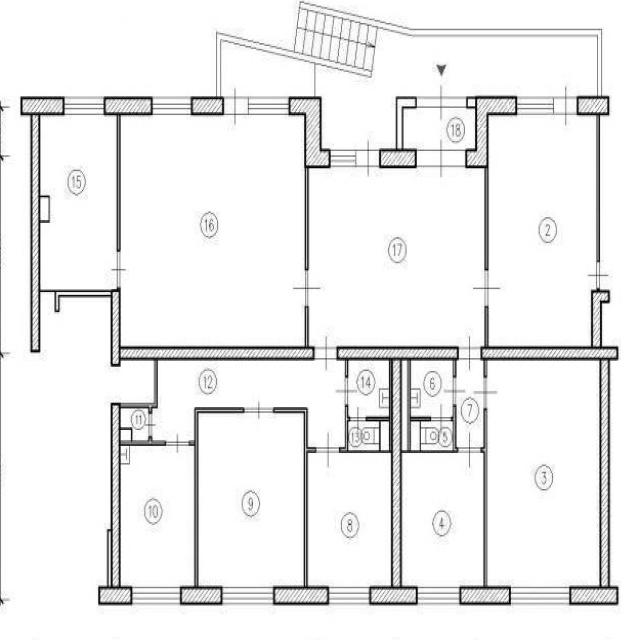Bathrooms: (349, 362, 390, 416), (412, 360, 452, 415), (411, 422, 452, 449), (348, 422, 389, 449)
Corridors: (222, 29, 598, 147), (153, 361, 345, 445), (404, 109, 475, 149), (458, 362, 483, 448), (121, 411, 148, 439)
Doors: (417, 137, 465, 178), (417, 84, 467, 120), (223, 86, 249, 129), (472, 271, 502, 307), (291, 271, 321, 307), (554, 85, 576, 128), (314, 335, 337, 375), (356, 139, 379, 178), (458, 333, 481, 372), (317, 430, 340, 469), (471, 377, 499, 409), (458, 431, 480, 469), (108, 253, 129, 290), (244, 397, 274, 422), (586, 261, 610, 289), (334, 377, 358, 405), (432, 403, 451, 435), (445, 377, 466, 405), (166, 431, 190, 454), (350, 406, 365, 436), (141, 414, 160, 435)
LBwalls: (481, 289, 619, 584), (110, 289, 314, 367), (465, 96, 517, 168), (289, 97, 330, 169), (391, 360, 401, 587), (31, 117, 40, 352), (110, 401, 121, 586), (338, 346, 459, 359), (274, 587, 328, 606), (460, 587, 511, 606), (103, 96, 153, 115), (570, 586, 619, 605), (369, 587, 417, 606), (20, 96, 64, 115), (181, 587, 223, 606), (379, 148, 417, 167), (98, 586, 132, 605), (576, 96, 610, 115), (191, 97, 225, 116)
Offices: (121, 117, 303, 345), (310, 168, 484, 345), (488, 362, 600, 585), (490, 116, 595, 345), (200, 416, 303, 584), (41, 117, 115, 287), (402, 454, 484, 586), (309, 454, 390, 587), (122, 448, 194, 586)
Stairs: (293, 8, 380, 71)
Walls: (300, 1, 604, 95), (216, 31, 372, 95), (189, 407, 243, 586), (274, 407, 317, 586), (402, 360, 459, 454), (339, 406, 390, 454), (121, 361, 158, 415), (41, 288, 111, 313), (480, 408, 488, 586), (396, 97, 416, 148), (596, 116, 600, 261), (116, 117, 120, 253), (121, 436, 165, 446), (485, 168, 488, 271), (305, 168, 308, 270), (304, 307, 309, 345), (484, 308, 489, 346), (366, 417, 391, 421), (467, 96, 475, 108), (453, 359, 457, 376), (345, 360, 349, 376), (484, 361, 487, 378)
Windows: (510, 587, 570, 605), (221, 587, 275, 605), (132, 587, 180, 605), (417, 587, 460, 605), (327, 586, 369, 604), (248, 96, 289, 114), (152, 97, 191, 115), (65, 97, 103, 115), (517, 97, 554, 115), (331, 148, 357, 166)
